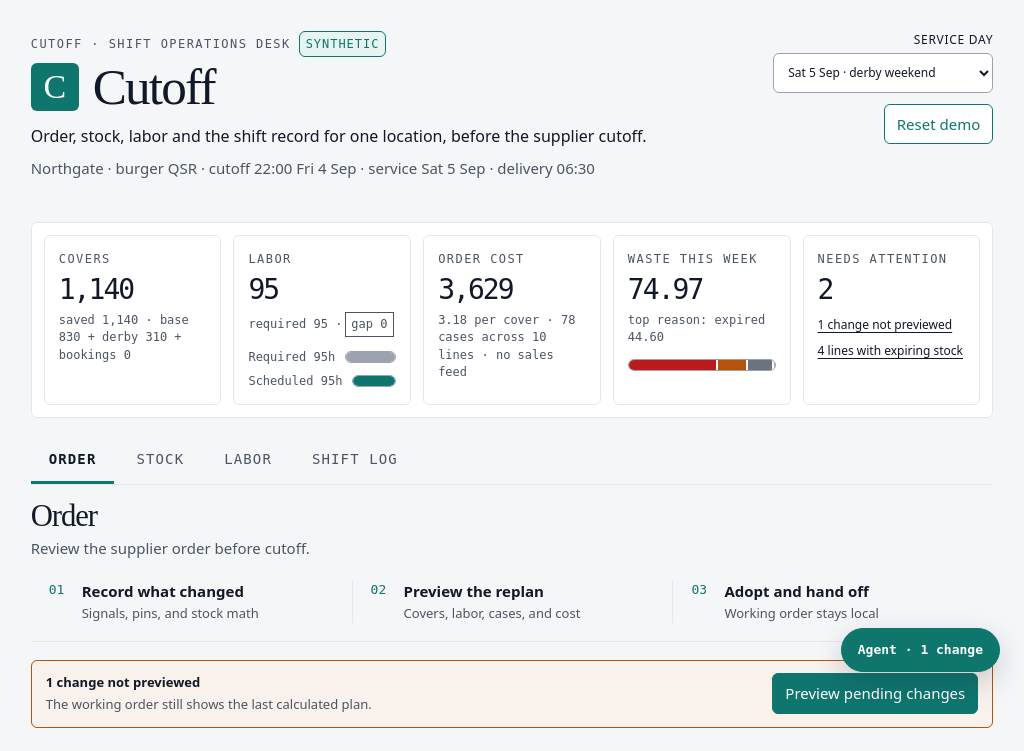
it: order review UI › shows only targeted agent writes and reveals a cross-page change on click
Check: the element "Agent changes" is not shown
Check: the heading "Order" is shown, box [31,499,97,533]
Click the button "Agent · 1 change".
click(920, 650)  # box [841,628,1000,672]
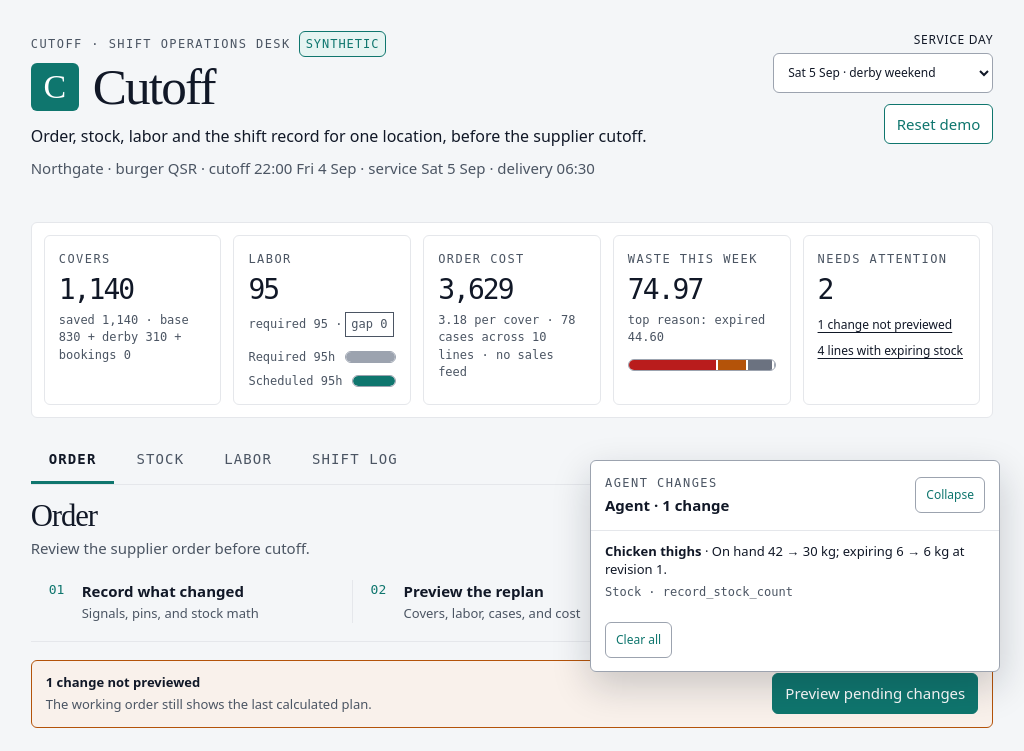
Click the button that starts with "Chicken thighs".
click(653, 551)  # box [591,531,999,612]
(page scrolled)
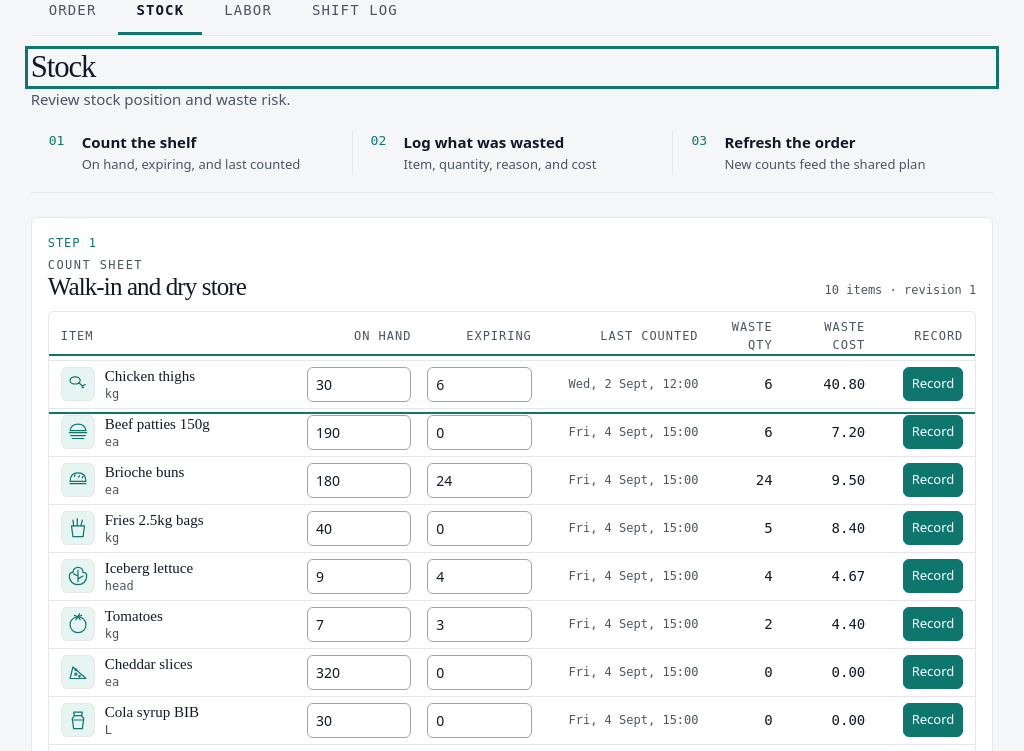
Check: the heading "Stock" is shown, box [31,50,95,84]
Check: the text "Agent changes" is gone
